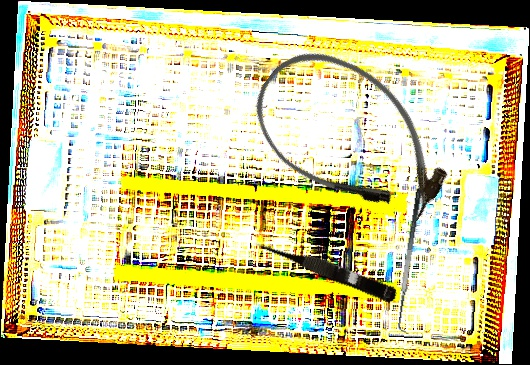Cannula: (231, 25, 472, 251)
Micro Scissor: (251, 231, 401, 305)
Spatula Surgical: (391, 188, 434, 334)
